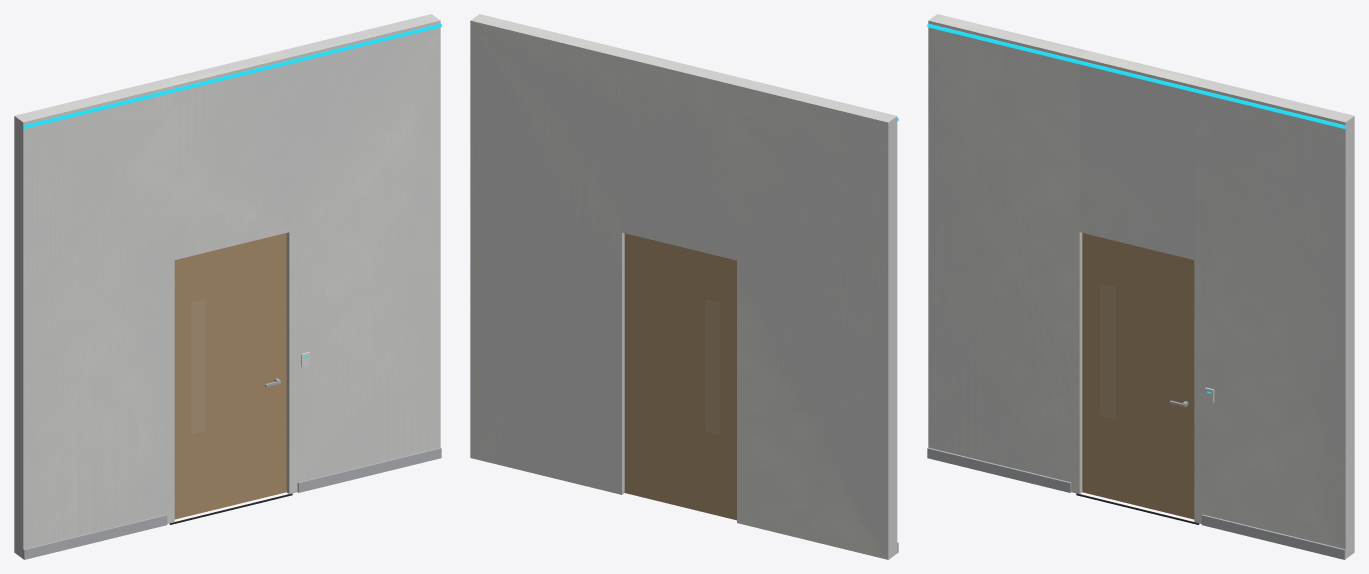
Rendered from Arch_Wall_Door_4m.gltf.
3 renders of one model, left to right at view 1: azimuth 30°, elevation 25°; view 2: azimuth 150°, elevation 25°; view 3: azimuth 330°, elevation 25°, orthographic.
Visible parts, largest first — view 1: Arch_Wall_Door_4m, Arch_Wall_Door_4m_COL, Arch_Wall_Door_4m_COL1, Arch_Wall_Door_4m_COL2; view 2: Arch_Wall_Door_4m, Arch_Wall_Door_4m_COL1, Arch_Wall_Door_4m_COL, Arch_Wall_Door_4m_COL2; view 3: Arch_Wall_Door_4m, Arch_Wall_Door_4m_COL1, Arch_Wall_Door_4m_COL, Arch_Wall_Door_4m_COL2.
Part boxes in pixels (x1,y1,x2,y2): Arch_Wall_Door_4m: (16,14,441,559); Arch_Wall_Door_4m_COL: (14,79,174,558); Arch_Wall_Door_4m_COL1: (281,14,440,494); Arch_Wall_Door_4m_COL2: (166,51,289,259); Arch_Wall_Door_4m: (470,14,898,559); Arch_Wall_Door_4m_COL1: (470,14,629,494); Arch_Wall_Door_4m_COL: (737,79,897,559); Arch_Wall_Door_4m_COL2: (622,51,745,260); Arch_Wall_Door_4m: (927,14,1352,559); Arch_Wall_Door_4m_COL1: (1194,79,1354,558); Arch_Wall_Door_4m_COL: (928,14,1087,493); Arch_Wall_Door_4m_COL2: (1079,51,1202,259).
Size of the model in its own units: 4 by 4.02 by 0.168.
9 materials, 1 textured.
